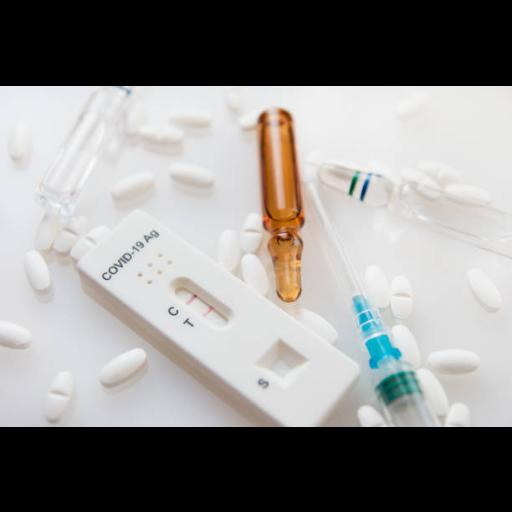Pos: (76, 206, 359, 426)
